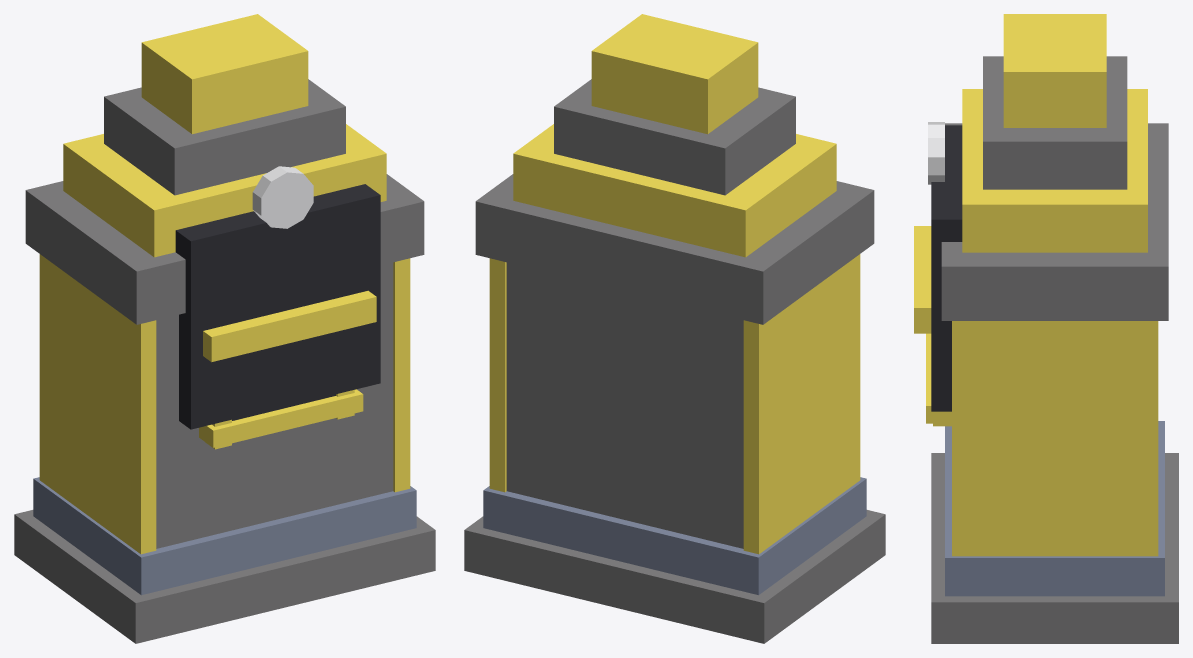
The model's file is press_gold.glb.
The picture shows the model from 3 angles, left to right: view 1: azimuth 30°, elevation 25°; view 2: azimuth 150°, elevation 25°; view 3: azimuth 270°, elevation 25°; orthographic projection.
Visible parts, largest first — view 1: press_gold; view 2: press_gold; view 3: press_gold.
Boxes of the visible parts, <box> form: press_gold: <box>14,14,435,643</box>; press_gold: <box>464,14,885,643</box>; press_gold: <box>914,14,1178,643</box>.
Bounding box in the file's own units: 1 × 1.64 × 0.75.
